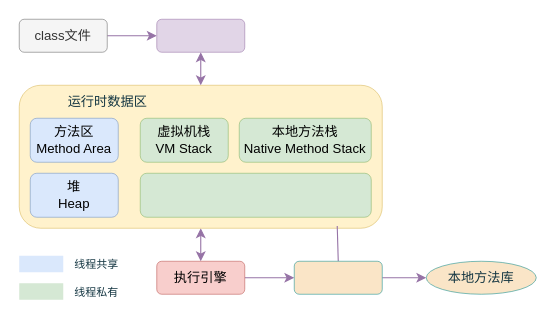
This 556x327 diagram has some shape labels left out. Each missing label, with the box of its shape:
本地库接口: (293, 260, 382, 294)
程序计数器 Program Counter Register: (139, 172, 371, 217)
类装载器: (156, 18, 245, 52)
